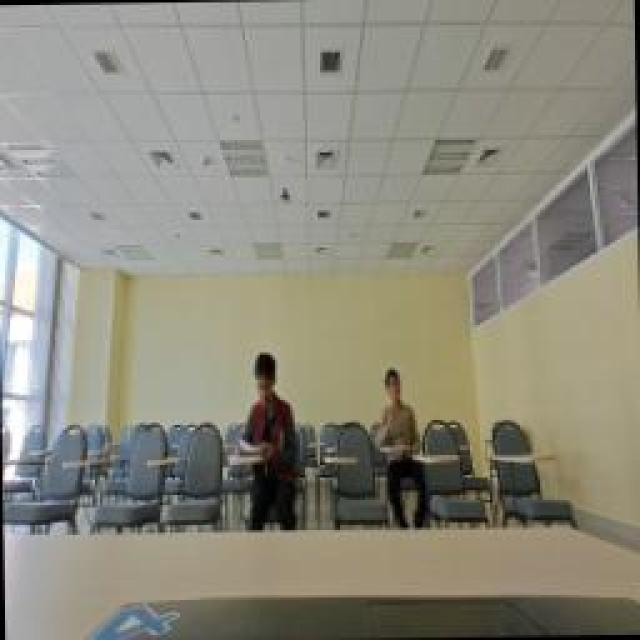study: (232, 350, 298, 465), (375, 365, 420, 450)
